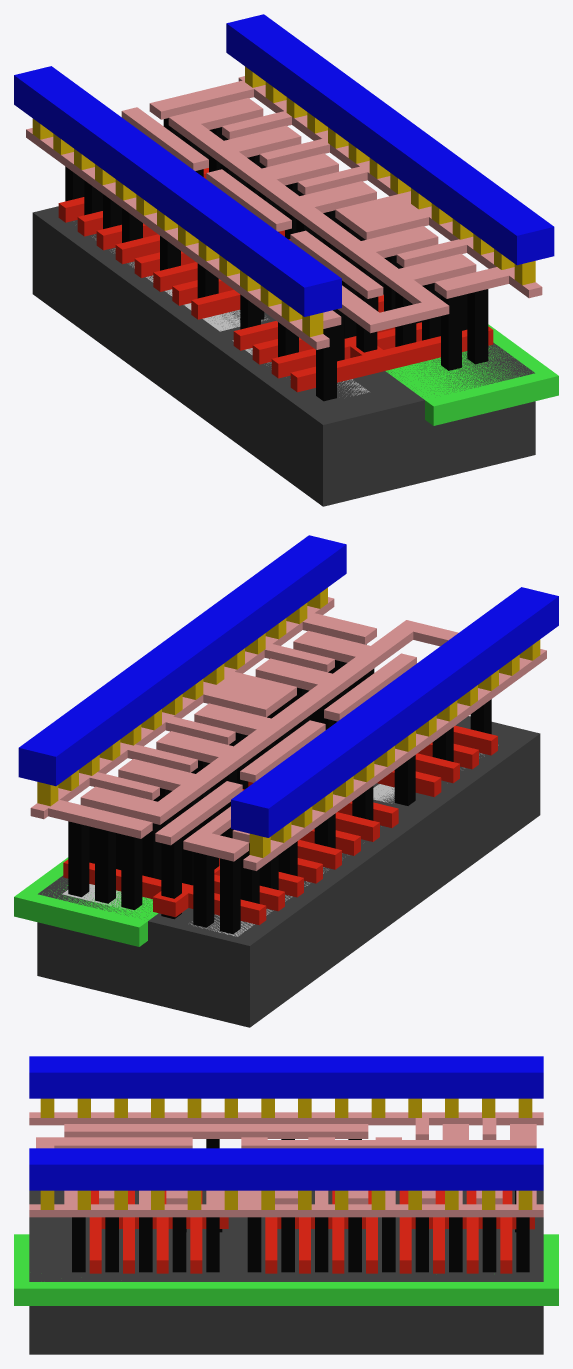
The model's file is sky130_fd_sc_hd__nand3_4.obj.
3 renders of one model, top to bottom at view 1: azimuth 30°, elevation 25°; view 2: azimuth 150°, elevation 25°; view 3: azimuth 270°, elevation 25°, orthographic. The views are drawn at different scales.
Visible parts, largest first — view 1: subs, metal1, li, licon, poly, mcon, nwell, diff; view 2: subs, metal1, li, licon, poly, mcon, nwell, diff; view 3: metal1, subs, li, nwell, licon, poly, mcon.
Part boxes in pixels (x1,y1,x2,y2): subs: [32, 206, 535, 506]; metal1: [14, 14, 554, 316]; li: [26, 76, 542, 349]; licon: [65, 118, 488, 401]; poly: [58, 168, 493, 392]; mcon: [32, 66, 535, 336]; nwell: [385, 324, 558, 425]; diff: [92, 236, 369, 396]; subs: [37, 716, 540, 1027]; metal1: [18, 535, 558, 837]; li: [30, 597, 546, 870]; licon: [68, 644, 491, 933]; poly: [63, 725, 497, 925]; mcon: [37, 587, 540, 857]; nwell: [14, 857, 158, 946]; diff: [190, 745, 498, 936]; metal1: [29, 1056, 543, 1190]; subs: [29, 1190, 543, 1354]; li: [29, 1112, 543, 1217]; nwell: [14, 1234, 558, 1305]; licon: [72, 1139, 529, 1272]; poly: [89, 1190, 534, 1273]; mcon: [40, 1098, 532, 1209].
Size of the model in its own units: 3.2 by 2.74 by 6.82.
